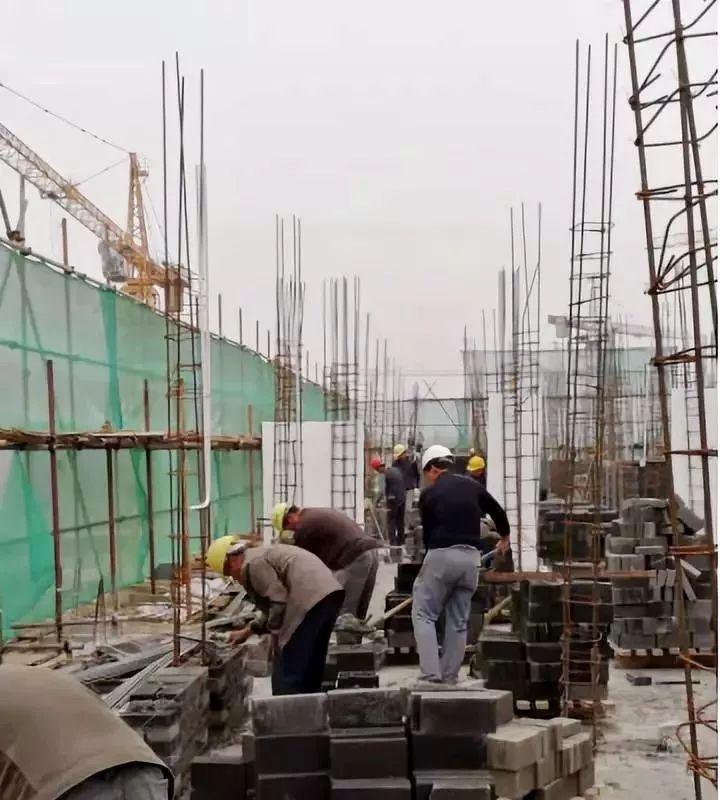helmet: (203, 531, 241, 582), (268, 500, 298, 531), (421, 440, 453, 469), (467, 452, 487, 471), (392, 441, 411, 458), (369, 453, 383, 467)
no_wear: (244, 546, 337, 614), (421, 479, 483, 554), (304, 507, 374, 559), (388, 465, 405, 502)
